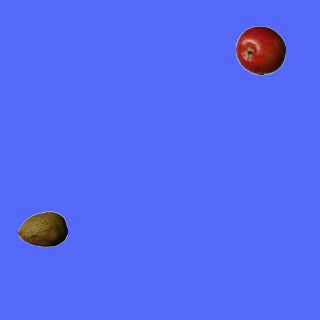Apple Braeburn: (235, 25, 285, 75)
Papaya: (17, 204, 67, 254)
